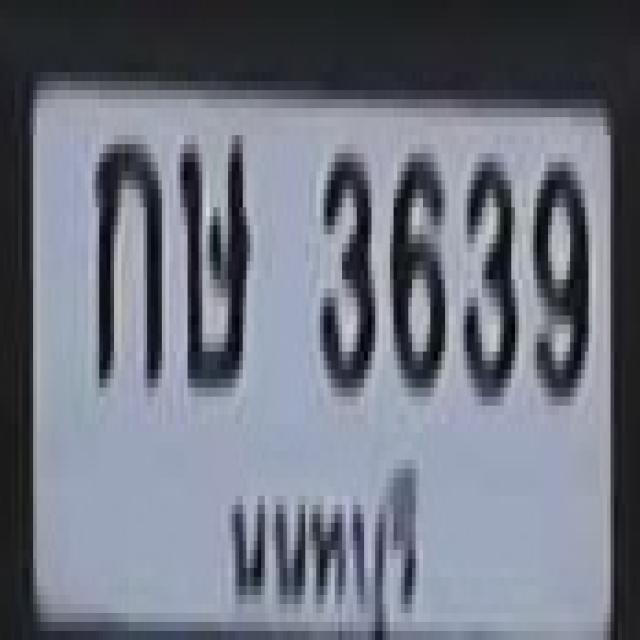3: (316, 144, 372, 388), (460, 149, 515, 392)
6: (386, 144, 442, 379)
9: (530, 153, 584, 388)
A01: (92, 135, 158, 379)
A39: (176, 126, 246, 379)
NBI: (215, 459, 432, 640)
